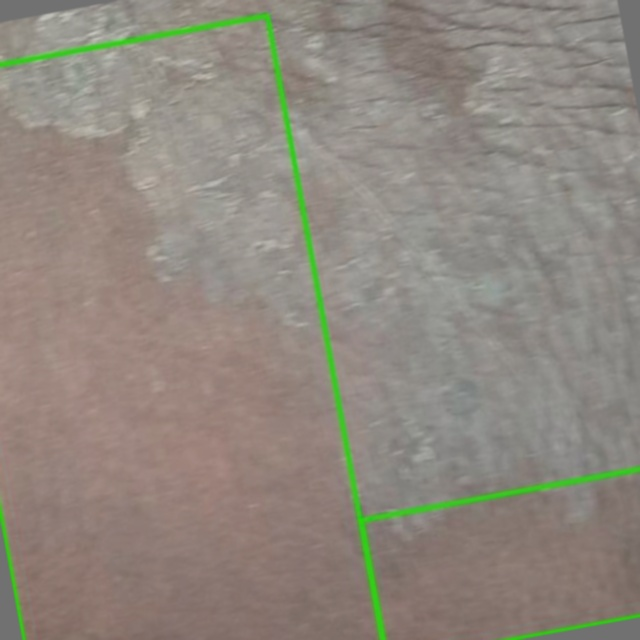Eczema: (0, 15, 382, 639), (360, 468, 639, 639)
